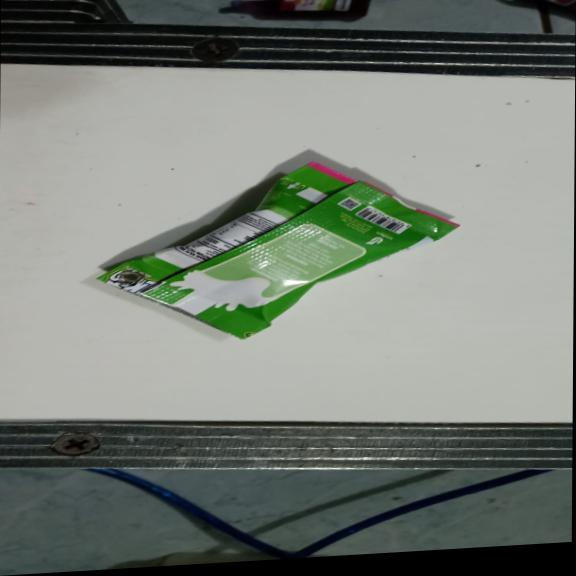Plastik: (91, 154, 461, 350)
